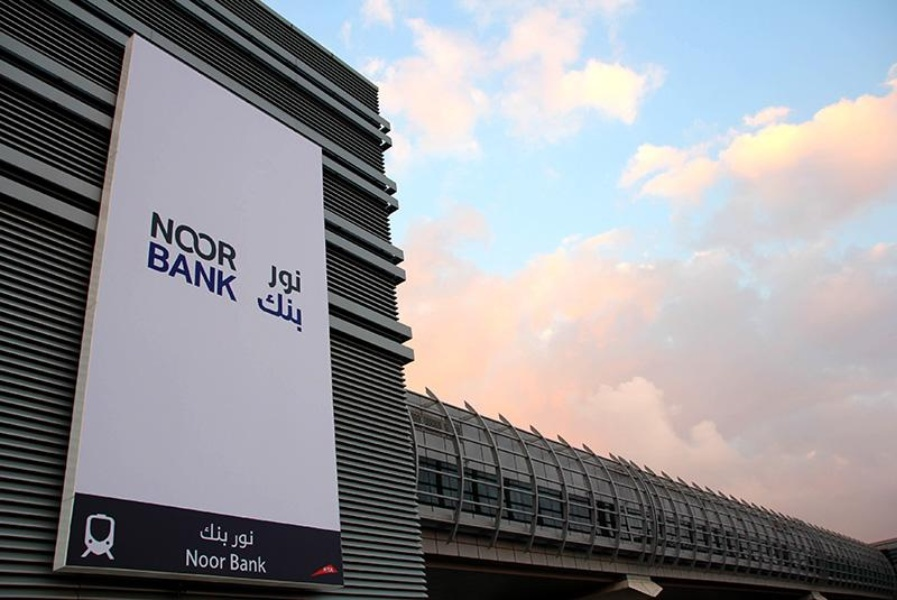text: (161, 210, 176, 276), (177, 210, 192, 276), (193, 210, 208, 276), (209, 210, 224, 276), (225, 210, 240, 276), (161, 239, 176, 304), (177, 239, 192, 304), (193, 239, 208, 304), (209, 239, 224, 304), (225, 239, 239, 304), (273, 283, 288, 336), (289, 283, 304, 336), (149, 239, 160, 304), (260, 283, 272, 336), (289, 261, 305, 298), (273, 261, 288, 298), (152, 210, 160, 276), (209, 520, 224, 549), (193, 547, 208, 571), (209, 547, 224, 571), (241, 552, 256, 575), (225, 520, 235, 549), (241, 531, 255, 550), (241, 210, 245, 276), (199, 520, 208, 549), (229, 552, 240, 575), (257, 552, 268, 575), (184, 547, 192, 571), (231, 531, 240, 550), (305, 283, 308, 336), (268, 261, 272, 298), (225, 547, 229, 571)
